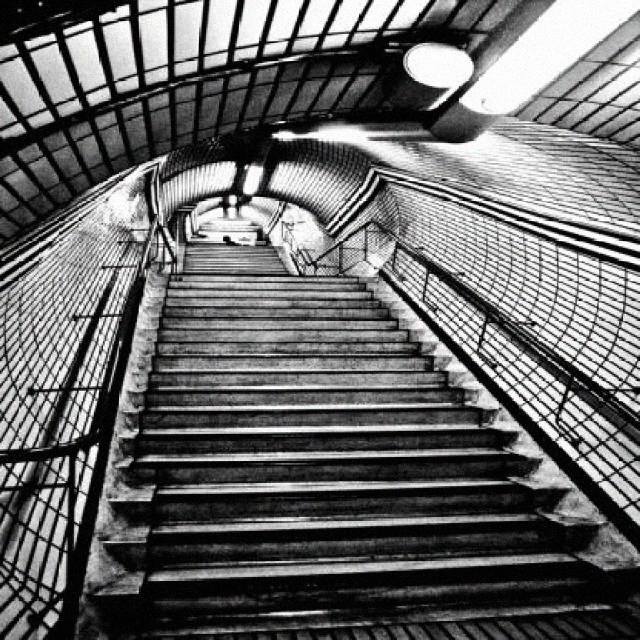stair: (83, 237, 640, 640)
